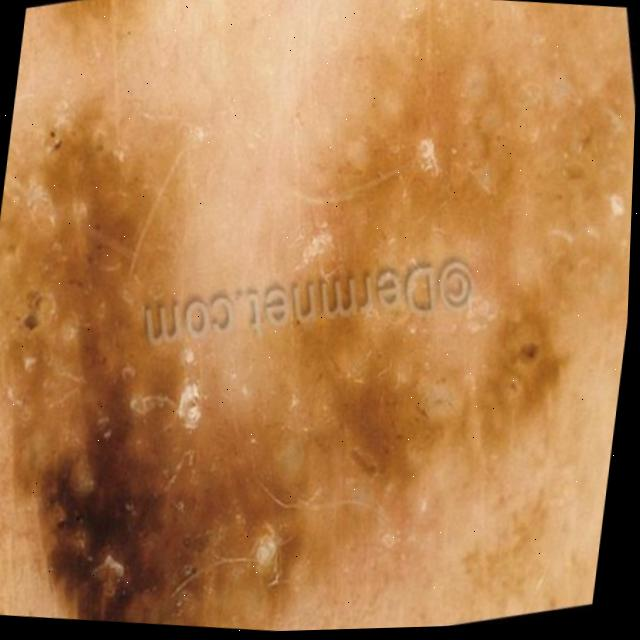Eczema: (2, 109, 583, 620)
